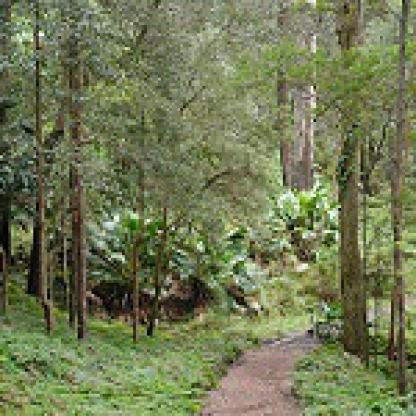trunk: (332, 0, 372, 355), (388, 0, 413, 397), (277, 0, 322, 203), (22, 0, 50, 303), (64, 5, 89, 344), (125, 233, 141, 344)
